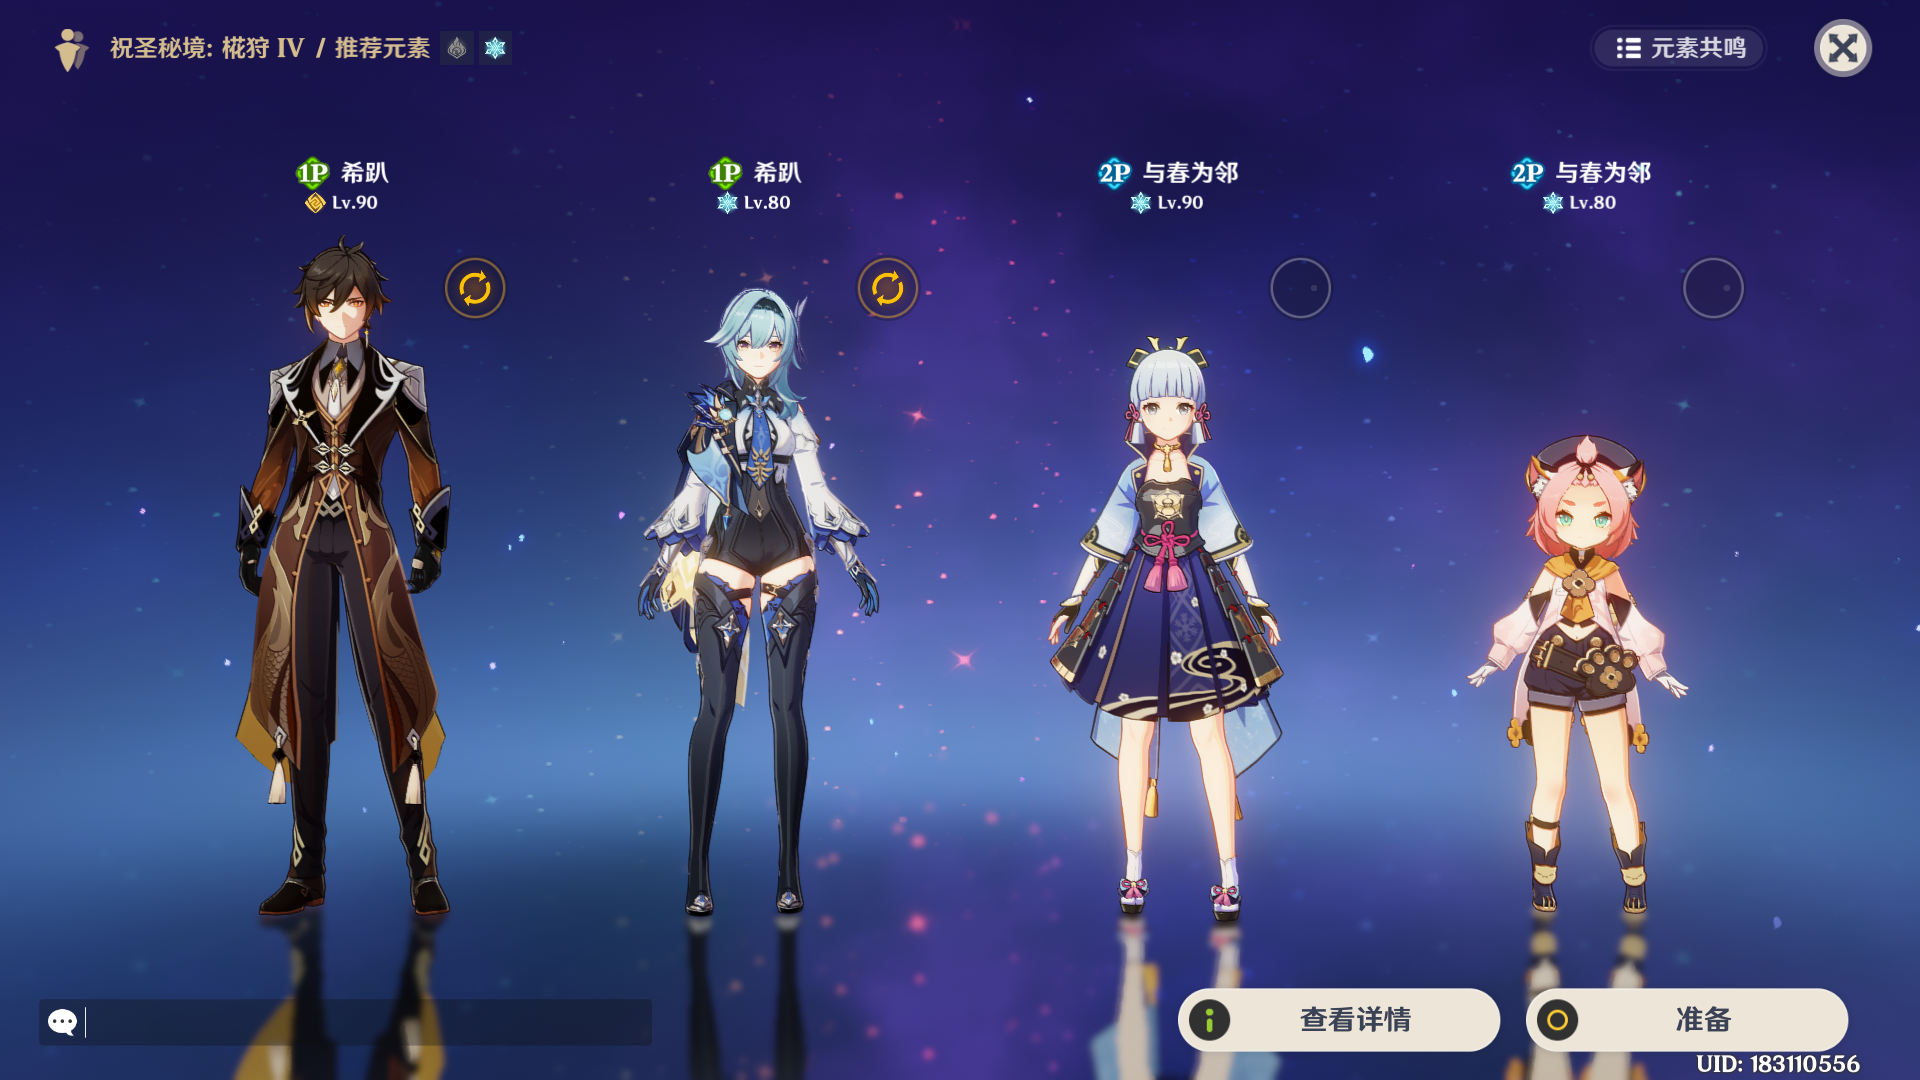character: (988, 319, 1354, 973), (582, 282, 932, 964), (187, 227, 509, 959), (1447, 400, 1741, 944)
